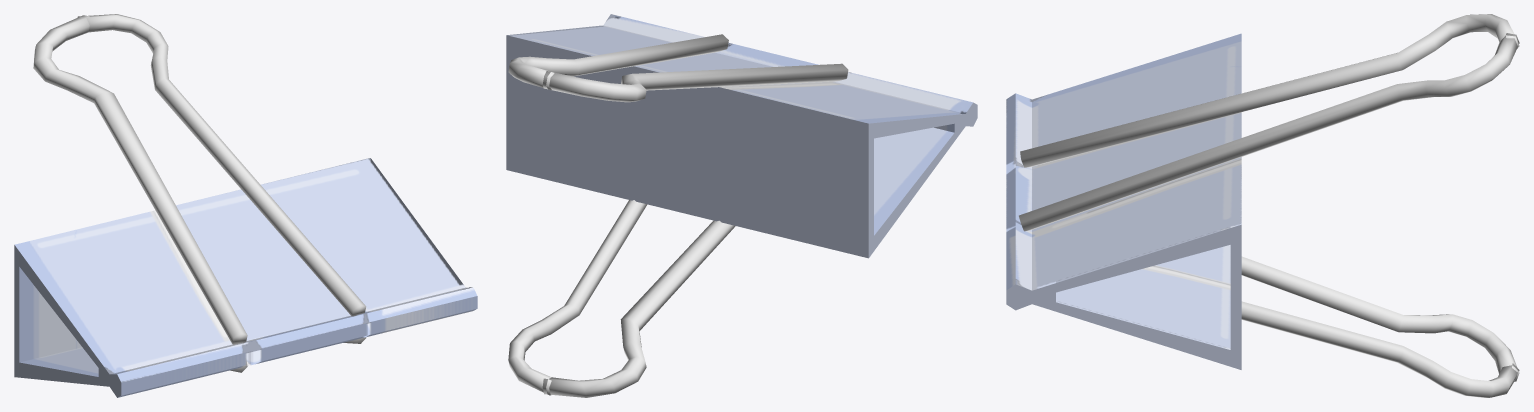
The model's file is paperclip.glb.
The picture shows the model from 3 angles, left to right: view 1: azimuth 30°, elevation 25°; view 2: azimuth 150°, elevation 25°; view 3: azimuth 270°, elevation 25°; orthographic projection. The views are drawn at different scales.
Parts seen in each view (by area): view 1: Cylinder, Cylinder.001; view 2: Cylinder, Cylinder.002, Cylinder.001; view 3: Cylinder, Cylinder.001, Cylinder.002.
Part boxes in pixels (x1,y1,x2,y2): Cylinder: [14, 158, 477, 397]; Cylinder.001: [33, 14, 366, 344]; Cylinder: [506, 14, 977, 258]; Cylinder.002: [508, 200, 735, 397]; Cylinder.001: [508, 34, 848, 102]; Cylinder: [1006, 33, 1241, 369]; Cylinder.001: [1019, 14, 1519, 231]; Cylinder.002: [1241, 256, 1519, 397].
Bounding box in the file's own units: 1.22 × 1.03 × 1.38.
Materials: 1 (1 with a texture image).
